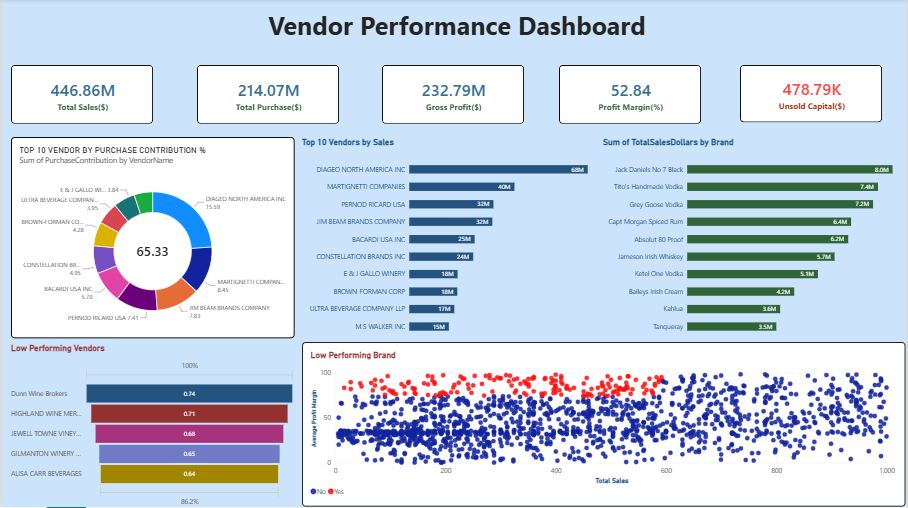

What the dashboard file says about the page in this screenshot:
{"tool":"powerbi","page":{"name":"Page 1","canvas":[1920,1080],"ordinal":0},"visuals":[{"type":"cardVisual","fields":{"Data":["Sum(Sheet1.TotalSalesDollars)"]},"box":[20,140,302.5,125],"z":0},{"type":"textbox","box":[0,0,1920,140],"z":1000},{"type":"cardVisual","fields":{"Data":["Sum(Sheet1.TotalPurchaseDollars)"]},"box":[415,140,302.5,125],"z":2000},{"type":"cardVisual","fields":{"Data":["Sum(Sheet1.GrossProfit)"]},"box":[807.5,140,302.5,125],"z":3000},{"type":"cardVisual","fields":{"Data":["Avg(Sheet1.ProfitMargin)"]},"box":[1185,140,302.5,125],"z":4000},{"type":"cardVisual","fields":{"Data":["Sum(Sheet1.UnsoldCapital)"]},"box":[1570,140,302.5,122.5],"z":5000},{"type":"donutChart","title":"TOP 10 VENDOR BY PURCHASE CONTRIBUTION %","fields":{"Category":["PurchaseContribution.VendorName"],"Y":["Sum(PurchaseContribution.PurchaseContribution)"]},"box":[20,292.5,602.5,427.5],"z":6000},{"type":"clusteredBarChart","title":"Top 10 Vendors by Sales","fields":{"Category":["Vendor_Sale_Summary.VendorName"],"Y":["Sum(Vendor_Sale_Summary.TotalSalesDollars)"]},"box":[637.5,292.5,617.5,427.5],"z":7000},{"type":"clusteredBarChart","title":"Sum of TotalSalesDollars by Brand","fields":{"Category":["Vendor_Sale_Summary.Description"],"Y":["Sum(Vendor_Sale_Summary.TotalSalesDollars)"]},"box":[1277.5,292.5,617.5,427.5],"z":8000},{"type":"funnel","title":"Low Performing Vendors","fields":{"Category":["LowTurnoverVendor.VendorName"],"Y":["Avg(LowTurnoverVendor.AverageStockTurnOver)"]},"box":[20,731,603,349],"z":9000},{"type":"scatterChart","title":"Low Performing Brand","fields":{"Category":["BrandPerformance.Description"],"Series":["BrandPerformance.TargetBrand"],"X":["Sum(BrandPerformance.TotalSales)"],"Y":["Sum(BrandPerformance.AverageProfitMargin)"]},"box":[637.5,730,1282.5,350],"z":10000}]}

Visuals, with their boxes in screenshot pixels (x1, y1, x2, y2), scaled from the page's 1920x1080 canvas onto the 908x508 screenshot:
cardVisual - Sum(Sheet1.TotalSalesDollars): BBox(9, 66, 153, 125)
textbox: BBox(0, 0, 907, 66)
cardVisual - Sum(Sheet1.TotalPurchaseDollars): BBox(196, 66, 339, 125)
cardVisual - Sum(Sheet1.GrossProfit): BBox(382, 66, 525, 125)
cardVisual - Avg(Sheet1.ProfitMargin): BBox(560, 66, 703, 125)
cardVisual - Sum(Sheet1.UnsoldCapital): BBox(742, 66, 886, 123)
"TOP 10 VENDOR BY PURCHASE CONTRIBUTION %" donutChart: BBox(9, 138, 294, 339)
"Top 10 Vendors by Sales" clusteredBarChart: BBox(301, 138, 594, 339)
"Sum of TotalSalesDollars by Brand" clusteredBarChart: BBox(604, 138, 896, 339)
"Low Performing Vendors" funnel: BBox(9, 344, 295, 507)
"Low Performing Brand" scatterChart: BBox(301, 343, 907, 507)
